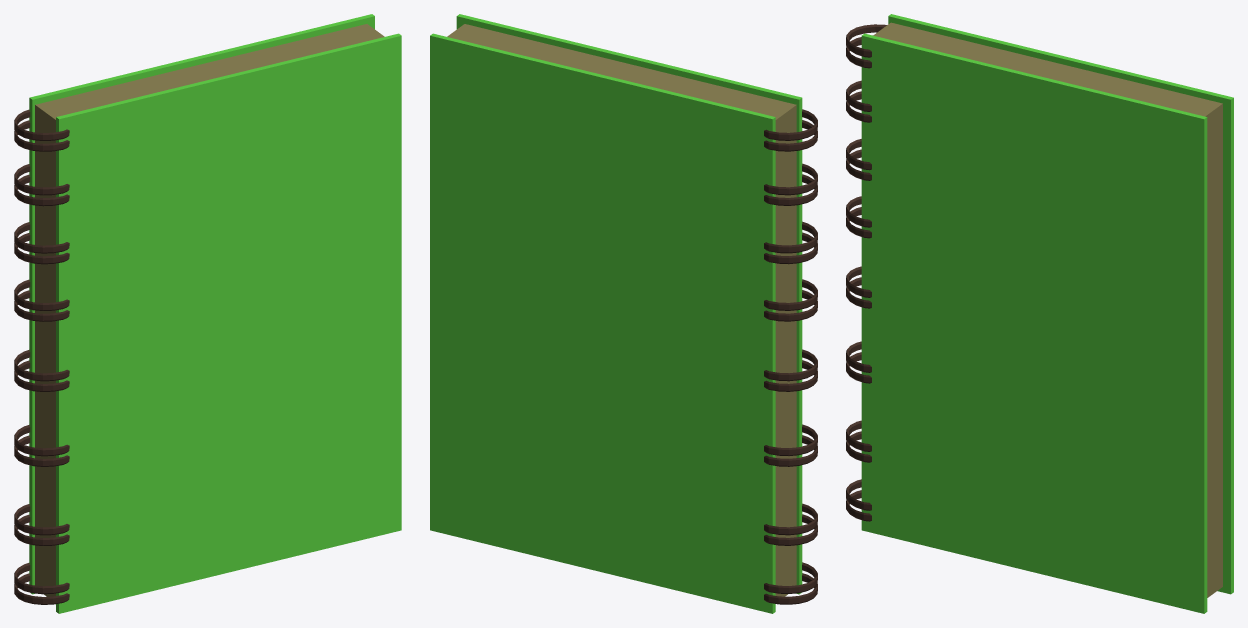
Rendered from IM_CarnetSpiral.fbx.
The picture shows the model from 3 angles, left to right: view 1: azimuth 30°, elevation 25°; view 2: azimuth 150°, elevation 25°; view 3: azimuth 330°, elevation 25°; orthographic projection.
Visible parts, largest first — view 1: IM_CarnetSpiral; view 2: IM_CarnetSpiral; view 3: IM_CarnetSpiral.
Boxes of the visible parts, <box> form: IM_CarnetSpiral: <box>14,14,401,613</box>; IM_CarnetSpiral: <box>430,14,817,613</box>; IM_CarnetSpiral: <box>846,14,1233,613</box>.
Size of the model in its own units: 27.21 by 34.82 by 4.03.
